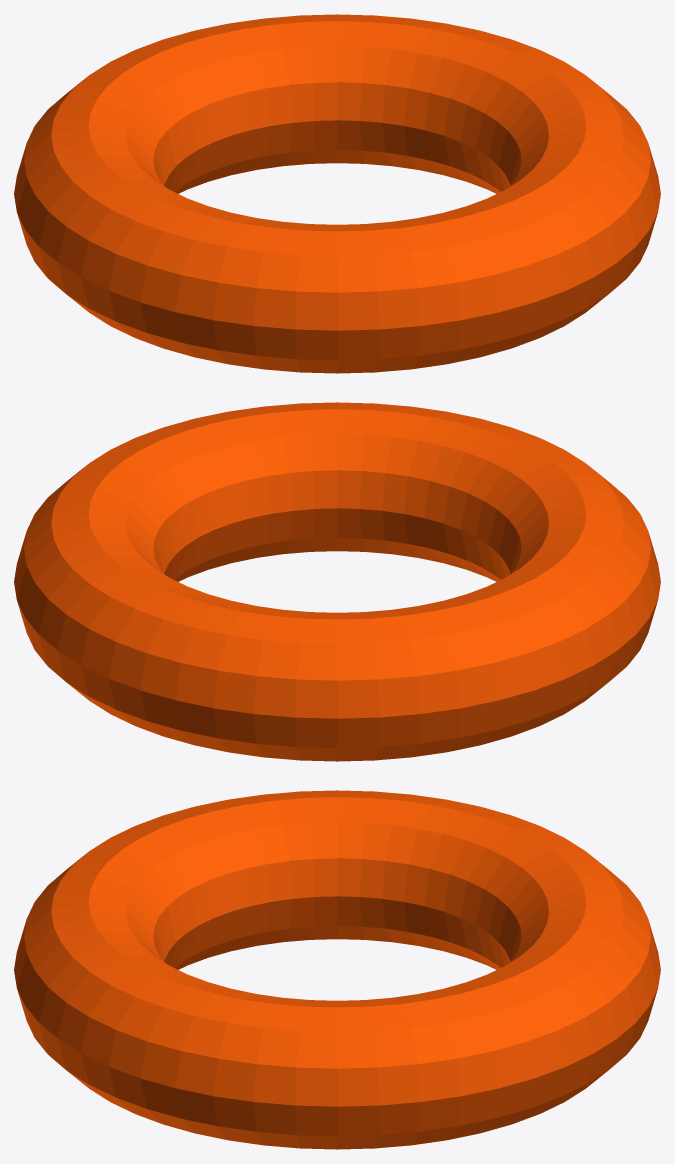
3 renders of one model, top to bottom at view 1: azimuth 30°, elevation 25°; view 2: azimuth 150°, elevation 25°; view 3: azimuth 270°, elevation 25°, orthographic.
Parts seen in each view (by area): view 1: torus; view 2: torus; view 3: torus.
Boxes of the visible parts, x1,y1,x2,y2 form: torus: [14, 14, 660, 373]; torus: [14, 402, 660, 761]; torus: [14, 790, 660, 1149].
Size of the model in its own units: 2.6 by 0.6 by 2.6.
